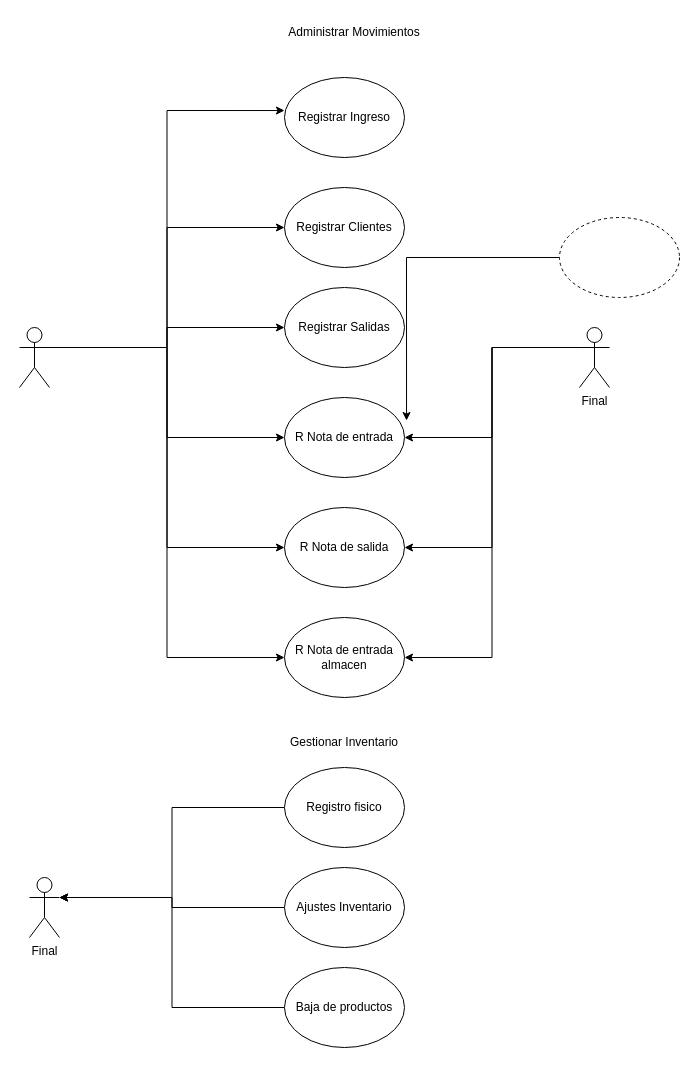
Some shapes in this 697 by 1065 pixel diagram are drawn without their labels. The centre of each missing label's shape, as x and y in pixels:
"Admin" belongs at point (34, 357).
"Solicitud de compra" belongs at point (619, 257).
